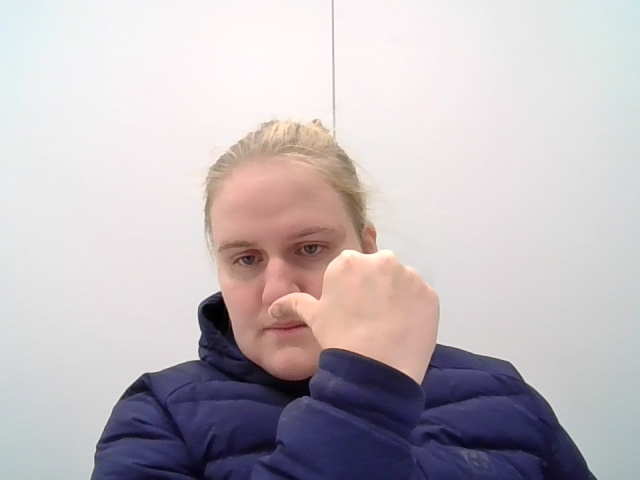right: (270, 265, 465, 386)
